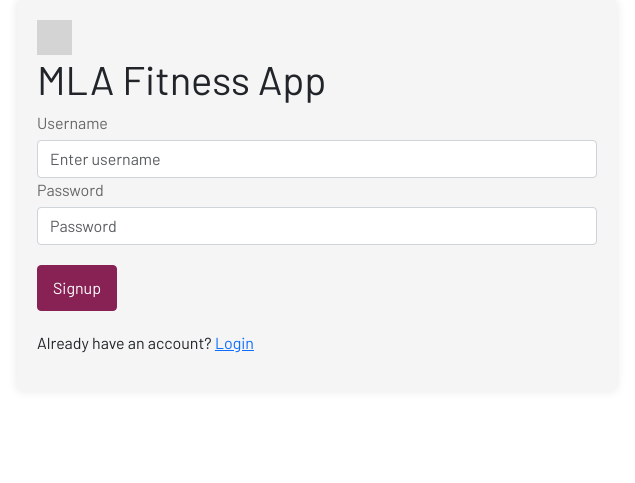
Signup component › displays error message on failed signup
In the field with test id "username-input": (317,159) top-left (37, 140), bottom-right (597, 178), type "existinguser"
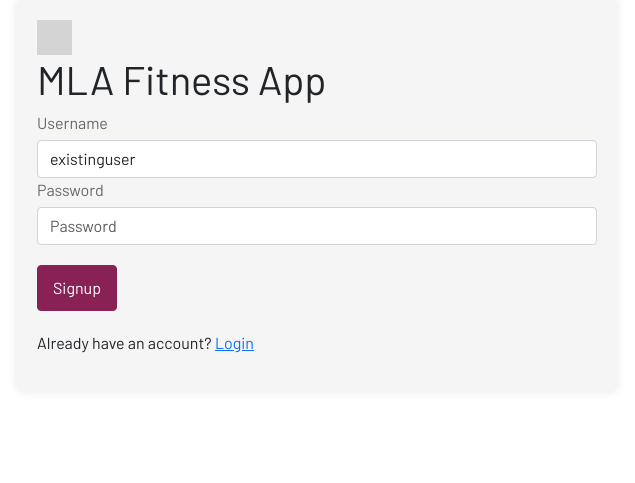
In the password field with test id "password-input": (317,226) top-left (37, 207), bottom-right (597, 245), type "Password123!"
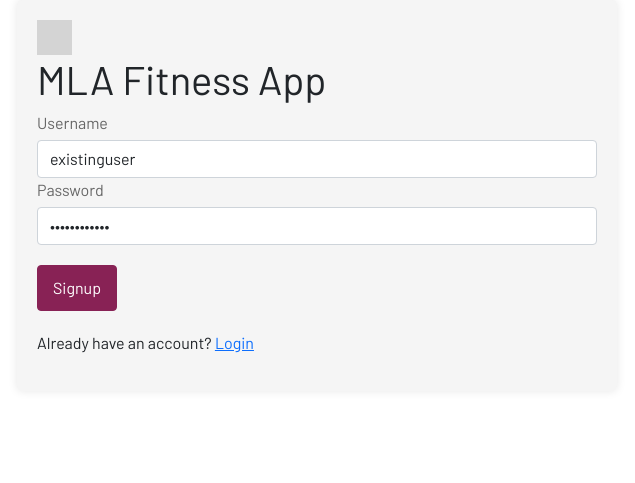
Click the button with test id "signup-button": (77,288) top-left (37, 265), bottom-right (117, 311)
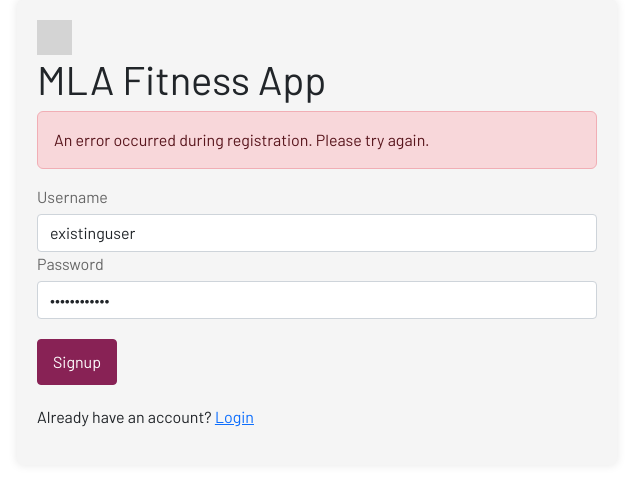
Now the message with test id "error-alert" reads "An error occurred during registration. Please try again.", box top-left (54, 130), bottom-right (429, 149)
